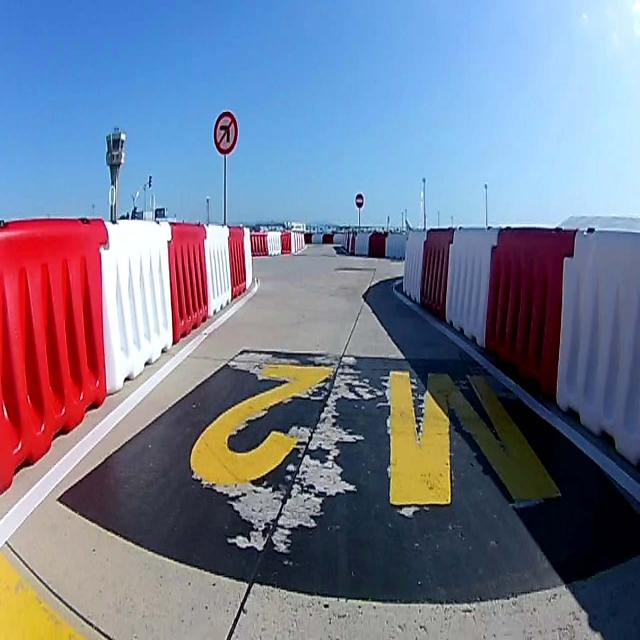girisyok: (354, 190, 364, 209)
soladonulmez: (212, 110, 238, 155)
